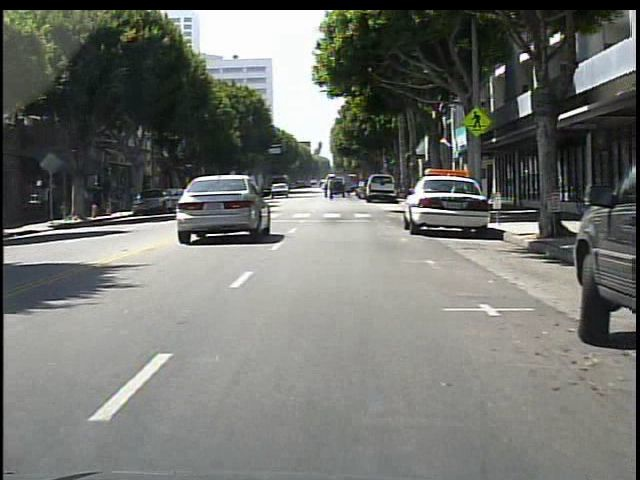person: (93, 182, 108, 219), (40, 182, 52, 220), (84, 186, 95, 218), (331, 177, 332, 199)
